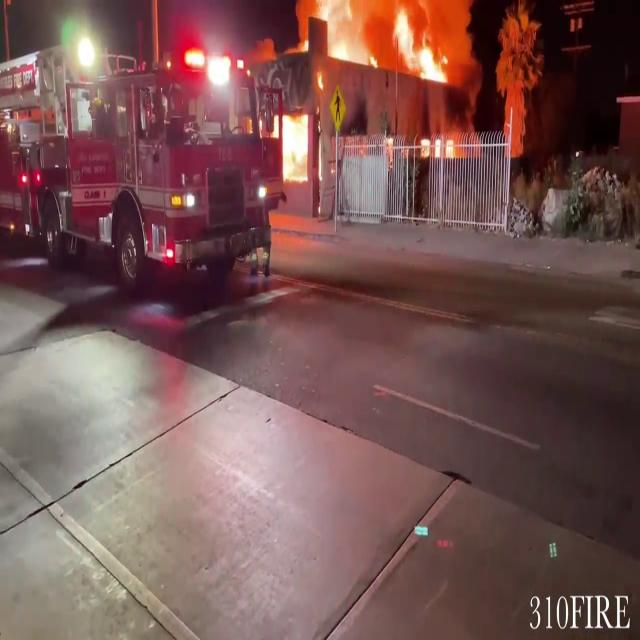Fire: (318, 1, 454, 75), (275, 106, 311, 187)
